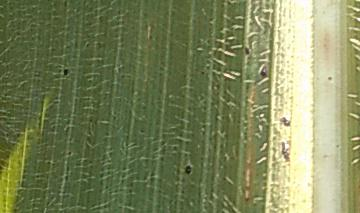tarspot: (276, 138, 294, 165), (275, 112, 296, 130), (256, 66, 271, 81), (239, 44, 255, 58), (182, 161, 194, 179), (61, 65, 71, 79), (326, 72, 334, 87)
